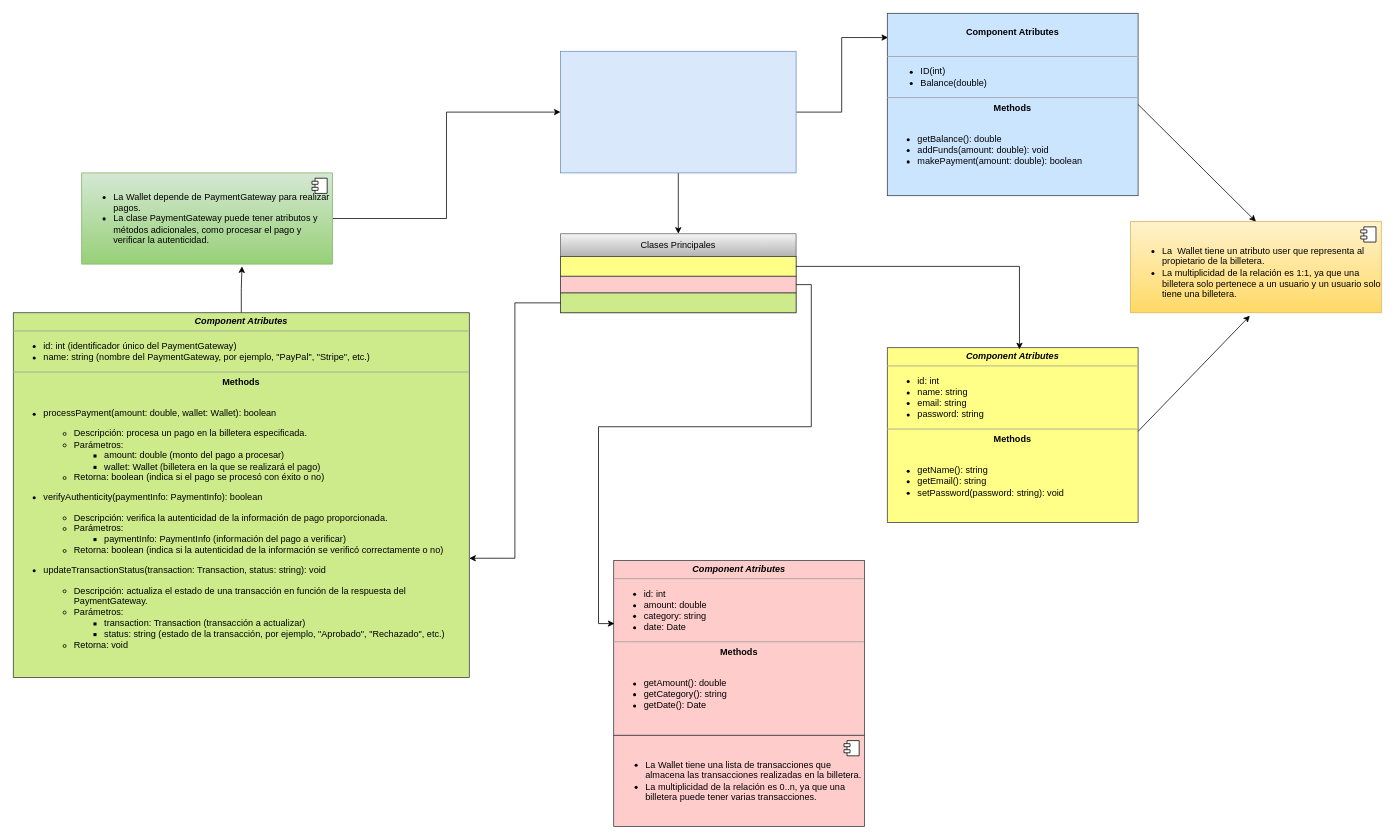
Some shapes in this 1395 by 840 pixel diagram are drawn without their labels. The shapes that lost their labels are listed below. From the top down, each one's centre as x and y in pixels, then its label:
At point (678, 112): "Wallet".
At point (678, 266): "User".
At point (678, 284): "Transaction".
At point (678, 302): "PaymentGateway".
